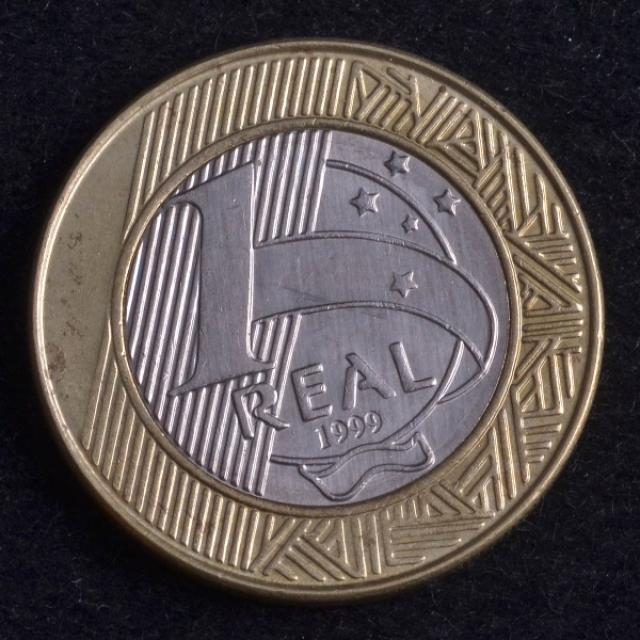1 real: (31, 39, 606, 602)
